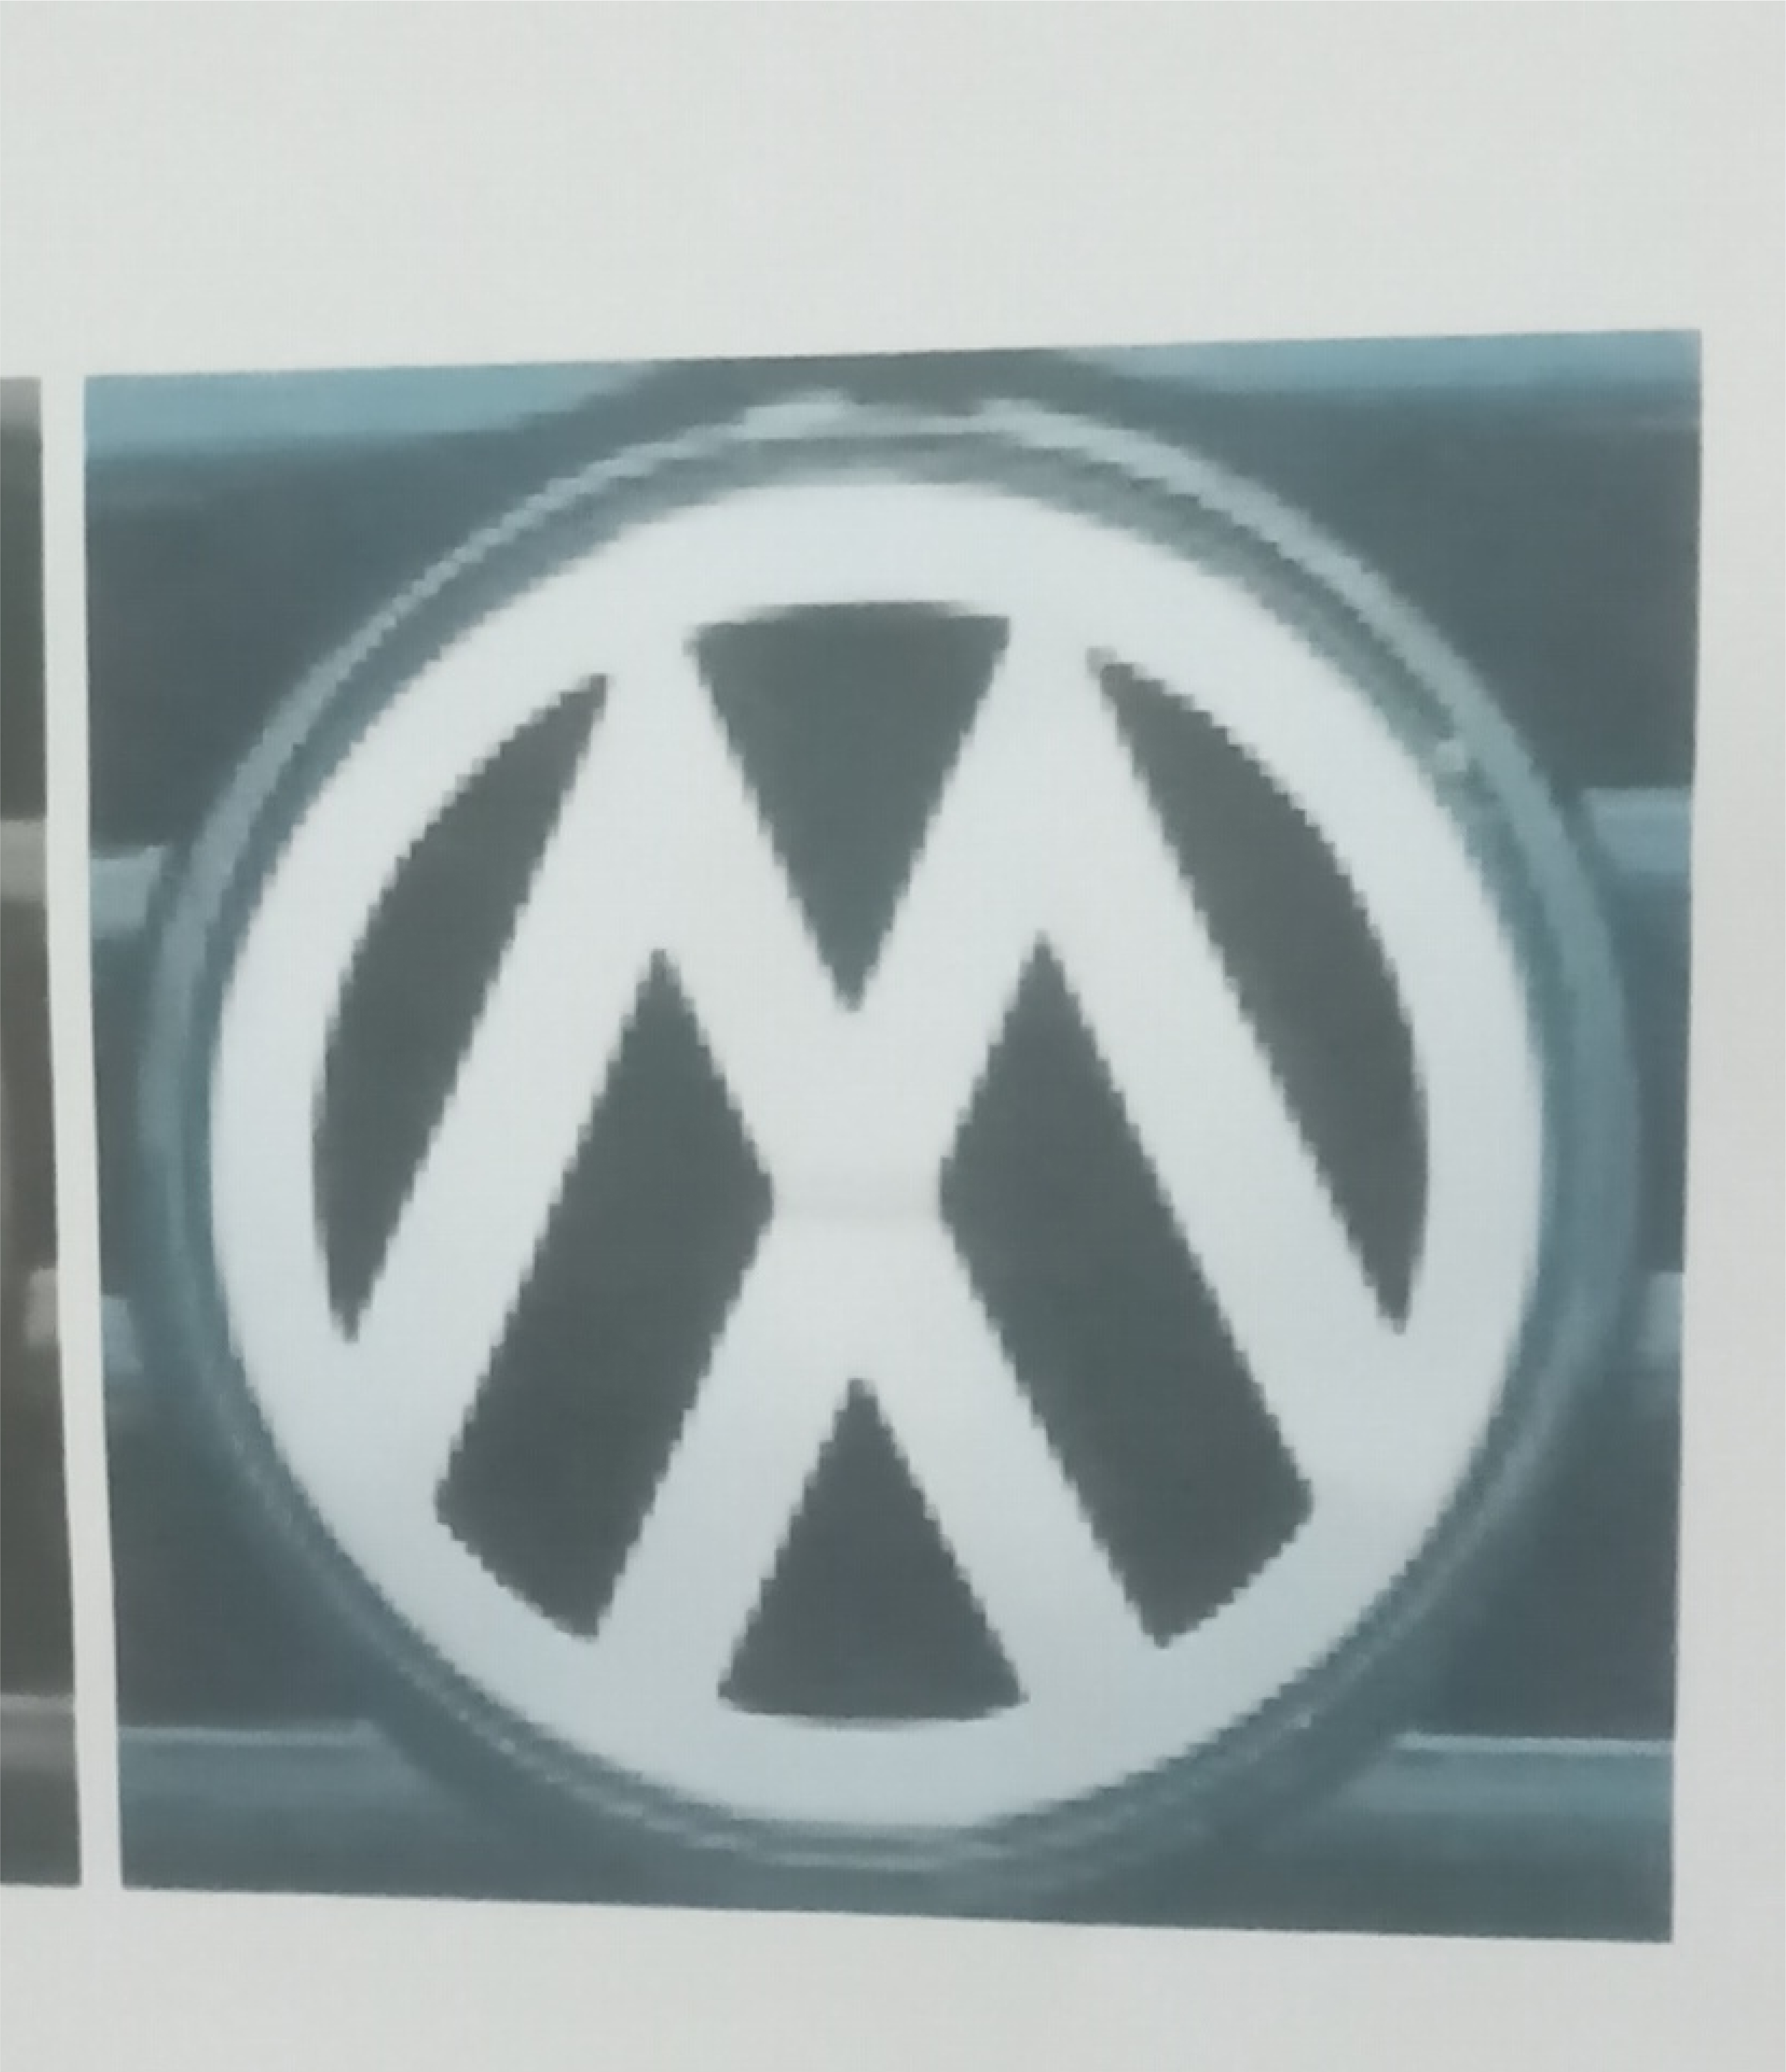Volkswagen: (129, 382, 1691, 1903)
